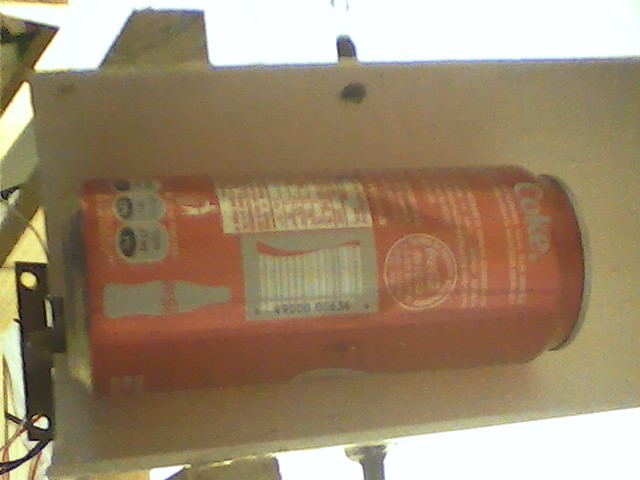lata: (55, 161, 598, 398)
